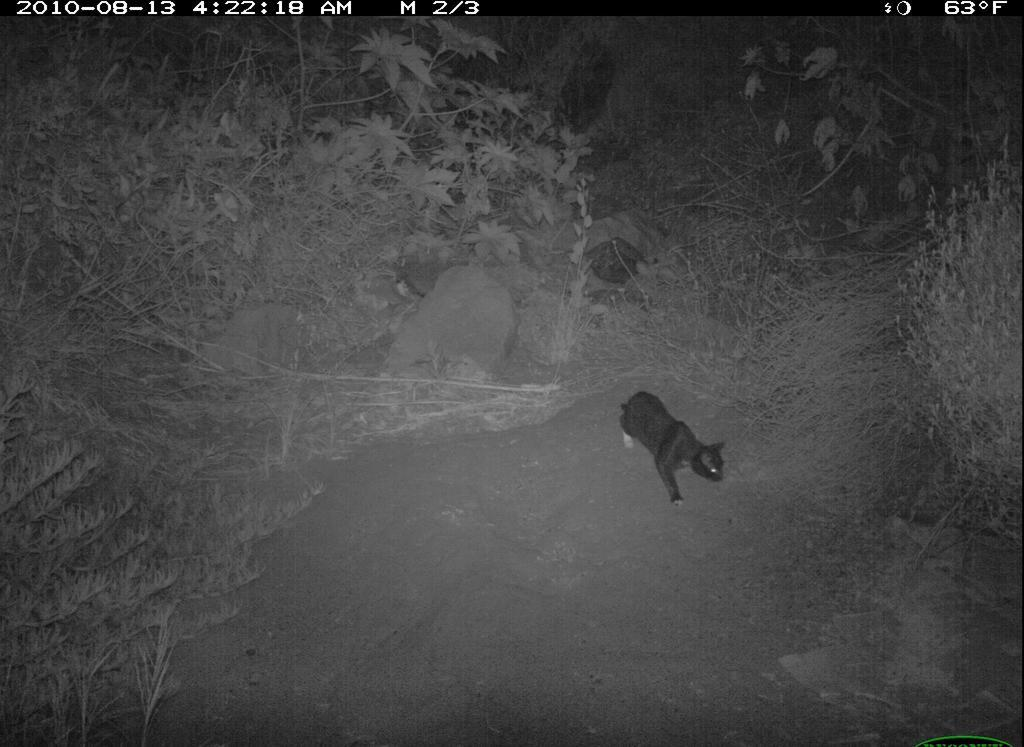cat: (611, 367, 742, 519)
